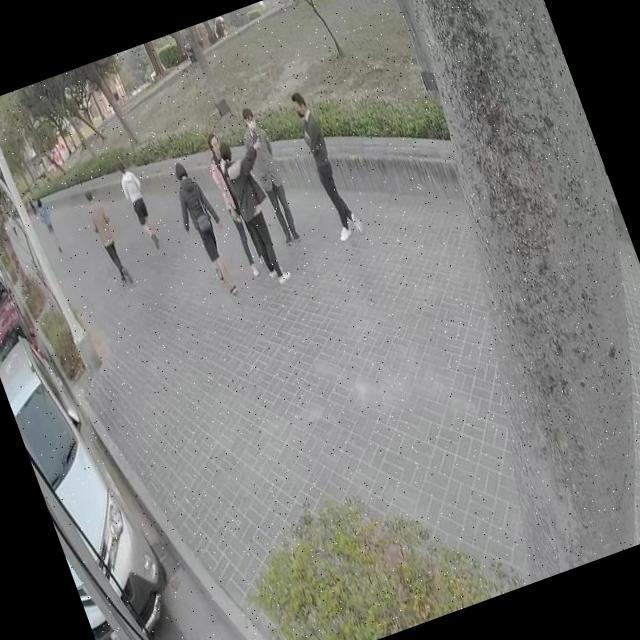person: (212, 122, 316, 292), (160, 150, 252, 310), (286, 88, 362, 240), (195, 125, 266, 275), (234, 104, 306, 248), (79, 186, 137, 291), (110, 152, 166, 252), (29, 193, 66, 255)
